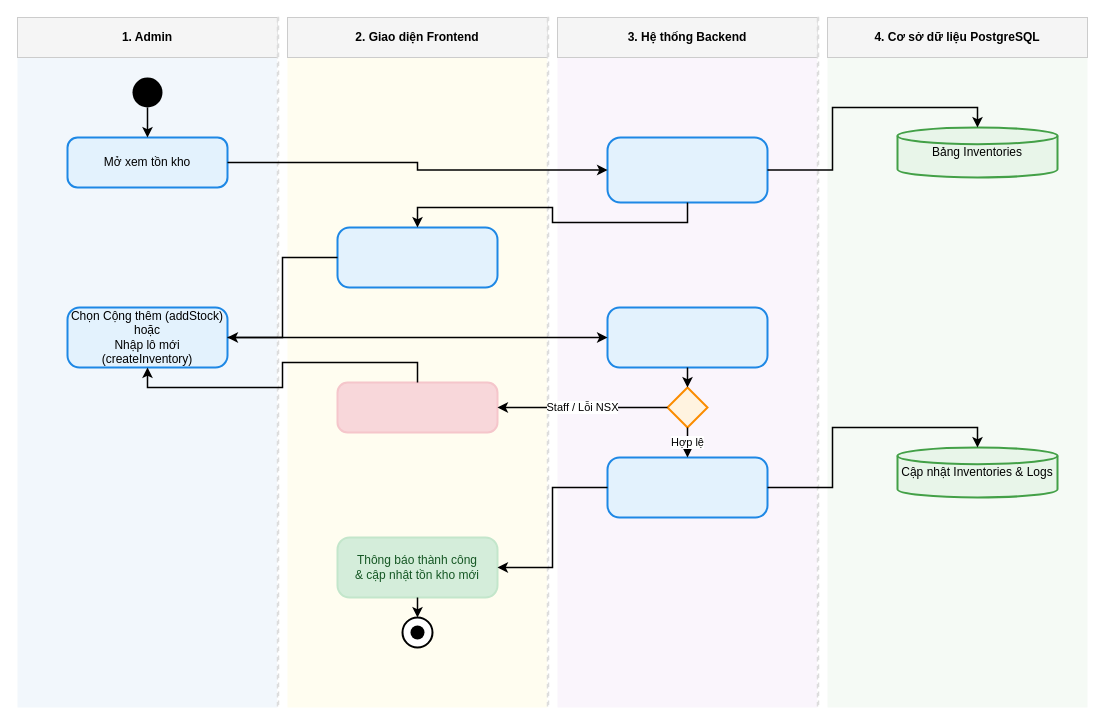
This 1105x726 diagram has some shape labels left out. The centre of each missing label's shape, as x and y in pixels:
"Báo lỗi trên giao diện" goes at [417,407].
"Hiển thị danh sách tồn kho & nút Nhập lô / Cộng kho" goes at [417,257].
"Kiểm tra quyền (Staff bị chặn) & thông tin lô hàng (NSX/HSD)" goes at [687,337].
"Lưu/Cộng dồn vào lô hàng DB & ghi log ADD_INVENTORY_STOCK" goes at [687,487].
"Lấy dữ liệu tồn kho: - ADMIN xem toàn bộ chi nhánh - MANAGER/STAFF xem CN mình" goes at [687,169].
